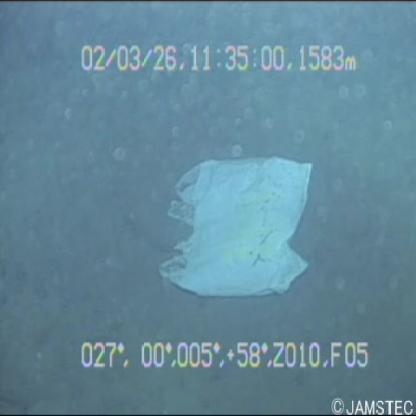Rác: (160, 133, 328, 312)
